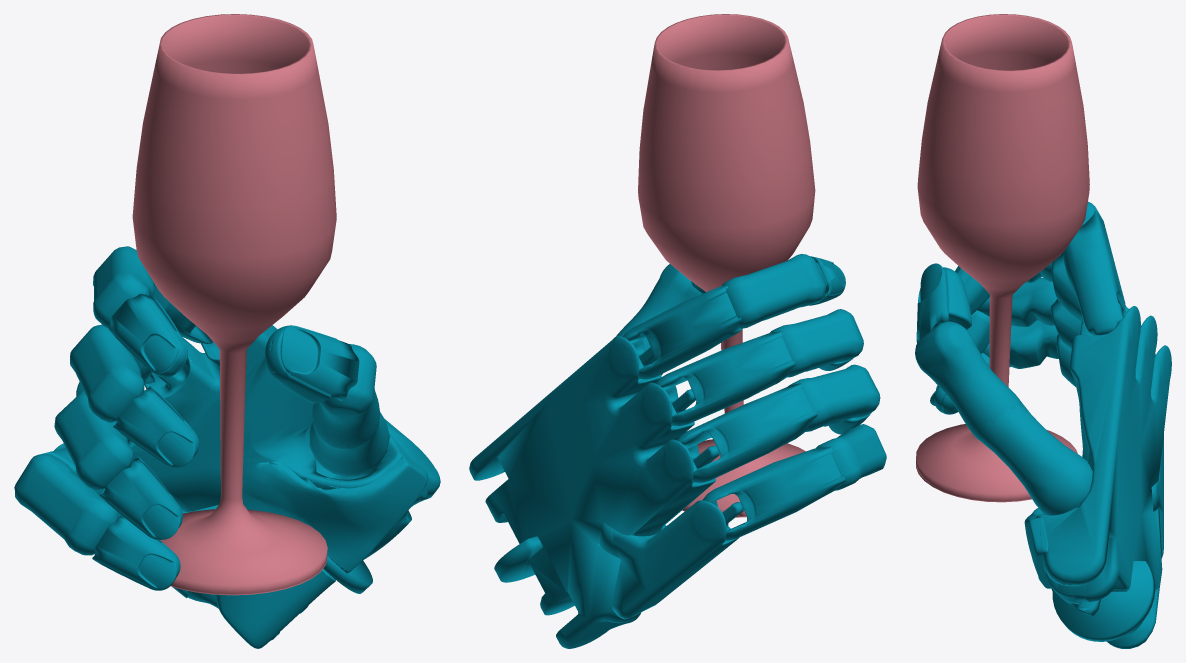
3 views of the same model, side by side, from view 1: azimuth 30°, elevation 25°; view 2: azimuth 150°, elevation 25°; view 3: azimuth 270°, elevation 25° (orthographic). The views are drawn at different scales.
Visible parts, largest first — view 1: world; view 2: world; view 3: world.
Boxes of the visible parts, x1,y1,x2,y2 form: world: [14, 14, 440, 648]; world: [469, 14, 886, 648]; world: [915, 14, 1171, 648].
Bounding box in the file's own units: 0.1585 × 0.2361 × 0.097.
